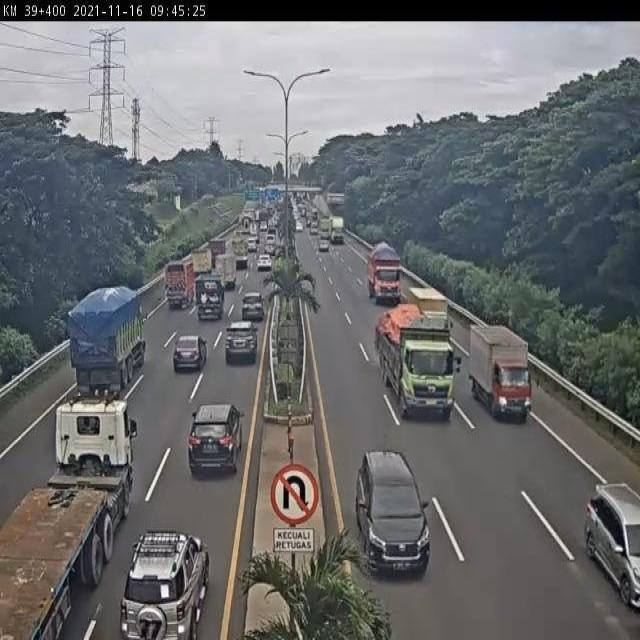Car: (117, 527, 215, 640), (351, 447, 433, 580), (584, 478, 640, 617), (187, 401, 245, 476), (224, 321, 259, 364), (172, 334, 208, 373), (241, 292, 265, 321), (257, 254, 272, 272), (264, 242, 275, 256), (249, 238, 258, 253), (259, 220, 269, 233), (319, 240, 329, 252), (266, 233, 276, 245), (310, 223, 319, 234), (295, 221, 303, 232), (306, 216, 314, 227)
Truck: (0, 393, 139, 640), (373, 298, 461, 418), (66, 282, 148, 401), (467, 322, 531, 423), (366, 240, 402, 304), (405, 284, 453, 328), (163, 257, 196, 310), (194, 272, 225, 323), (214, 252, 238, 288), (230, 233, 250, 269), (207, 238, 227, 270), (190, 247, 212, 276), (330, 216, 344, 244), (257, 206, 272, 232), (240, 208, 256, 232), (319, 217, 332, 240), (248, 219, 258, 238)
